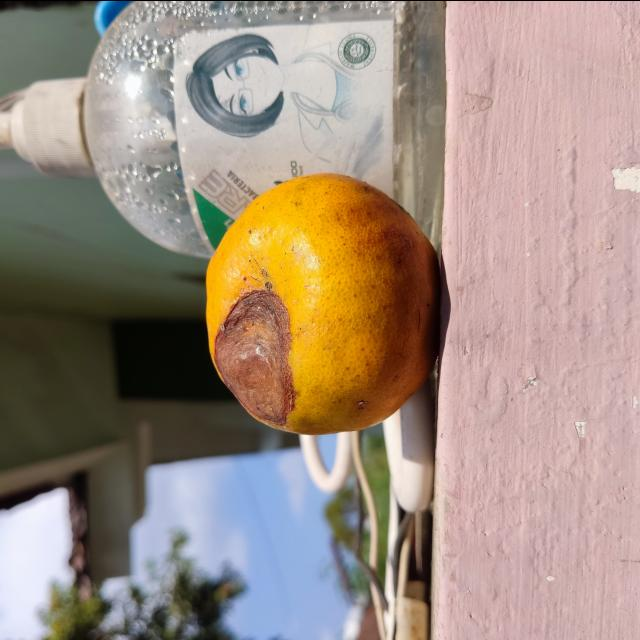orange: (202, 171, 439, 437)
